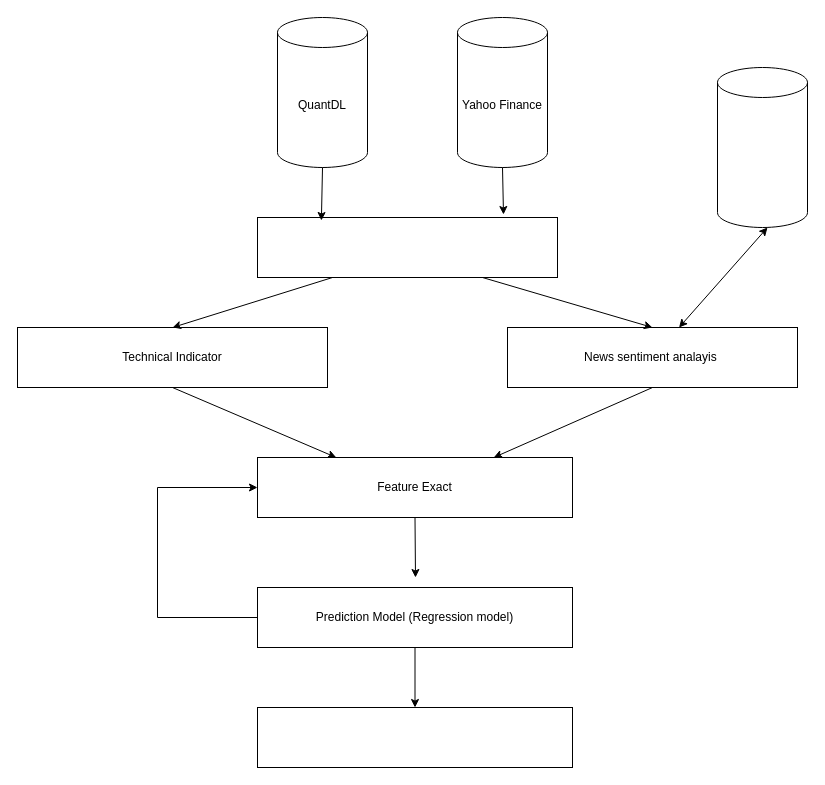
Some shapes in this 825 by 785 pixel diagram are drawn without their labels. The centre of each missing label's shape, as x and y in pixels:
News fetching: point (762, 147)
Reinforcement Learning Agent (DQN): point (414, 737)
Ticker history collection: point (407, 247)
